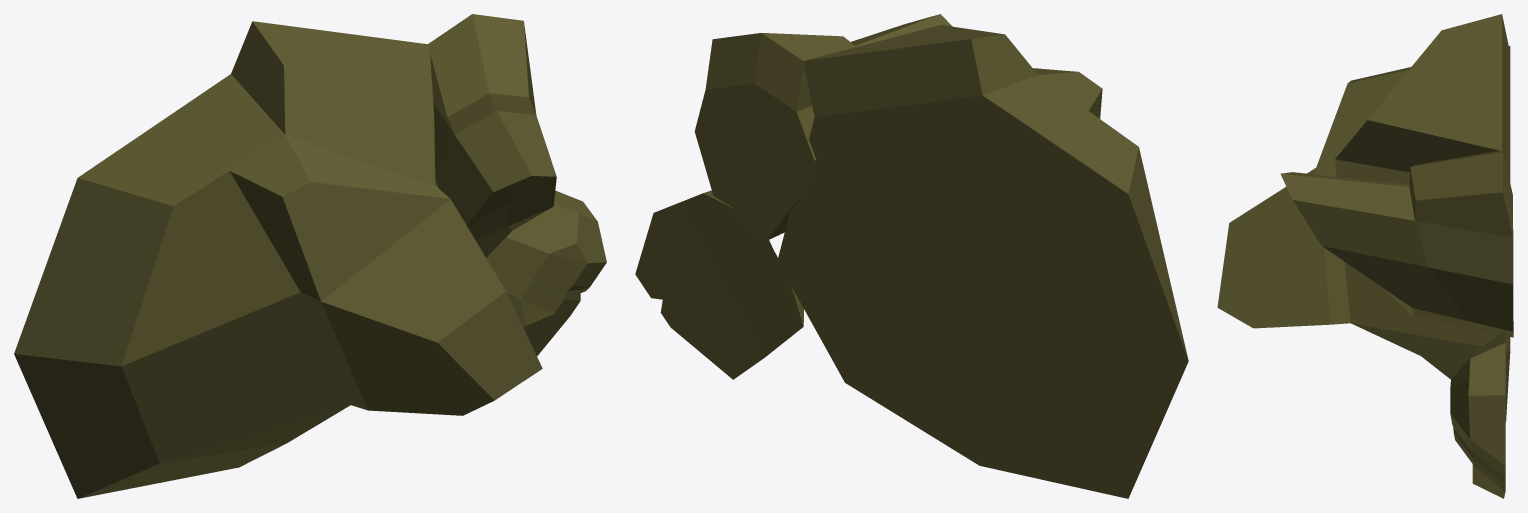
File: Piedras2.fbx
3 views of the same model, side by side, from view 1: azimuth 30°, elevation 25°; view 2: azimuth 150°, elevation 25°; view 3: azimuth 270°, elevation 25° (orthographic). The views are drawn at different scales.
Visible parts, largest first — view 1: Cylinder; view 2: Cylinder; view 3: Cylinder.
Boxes of the visible parts, left/top/right/bottom form: Cylinder: left=14, top=14, right=606, bottom=498; Cylinder: left=635, top=14, right=1188, bottom=498; Cylinder: left=1217, top=14, right=1513, bottom=498.
Bounding box in the file's own units: 325 × 236 × 159.
